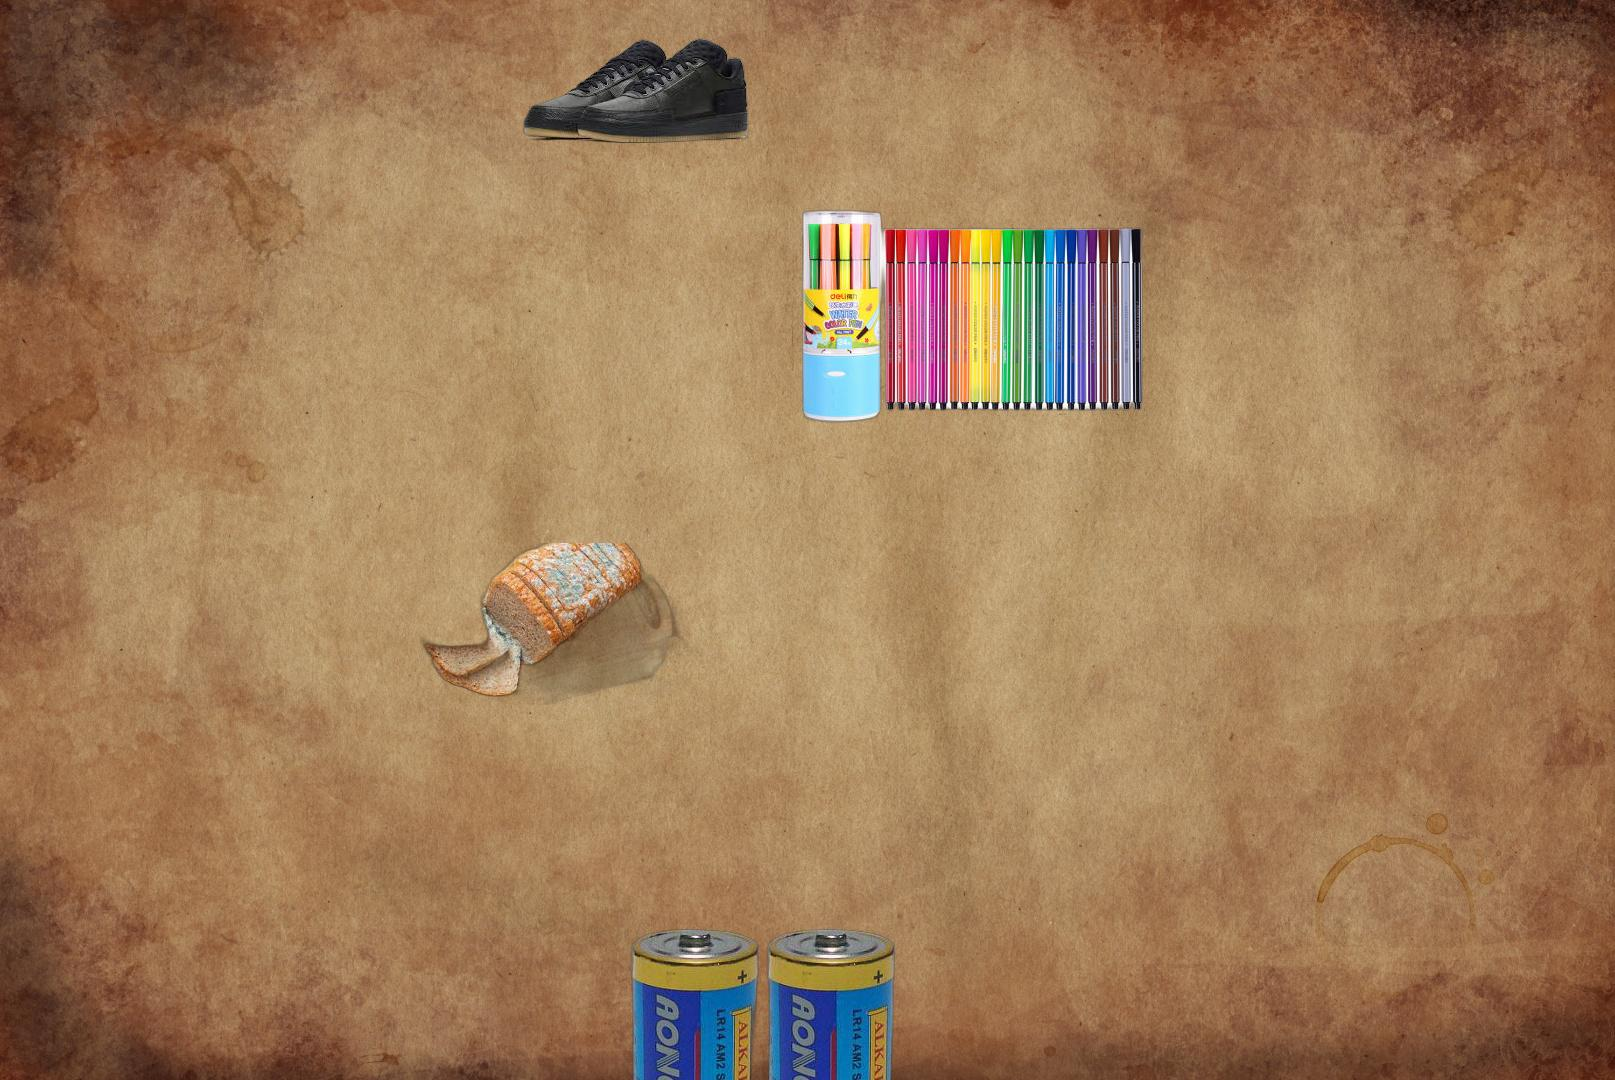battery: (628, 926, 898, 1080)
biological: (404, 542, 713, 705)
penholder: (799, 207, 1147, 424)
shoes: (519, 36, 751, 146)
